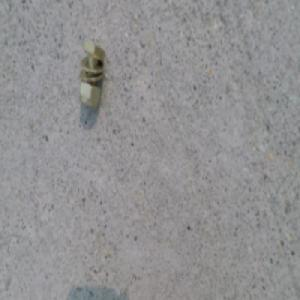BoltNutSet: (75, 38, 102, 106)
